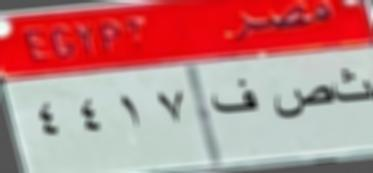1: (113, 92, 144, 131)
4: (78, 92, 107, 136), (35, 97, 63, 142)
7: (152, 88, 190, 123)
faa: (210, 74, 258, 116)
saad: (272, 75, 334, 121)
thaa: (336, 68, 372, 107)
